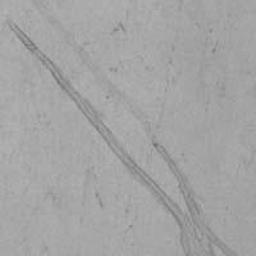Water spot: (9, 0, 250, 256)
